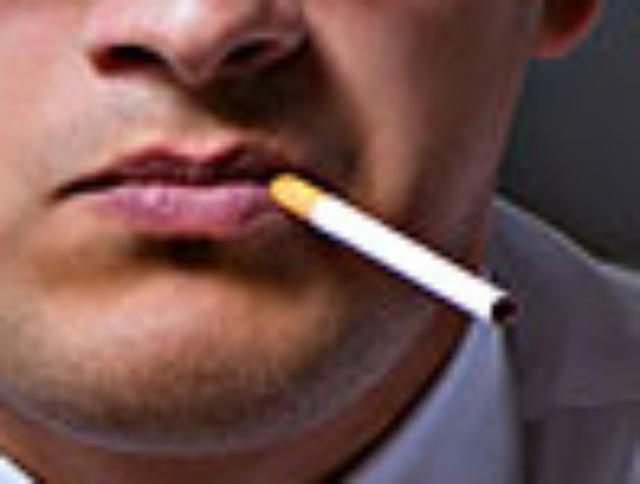Cigarette: (264, 168, 522, 330)
